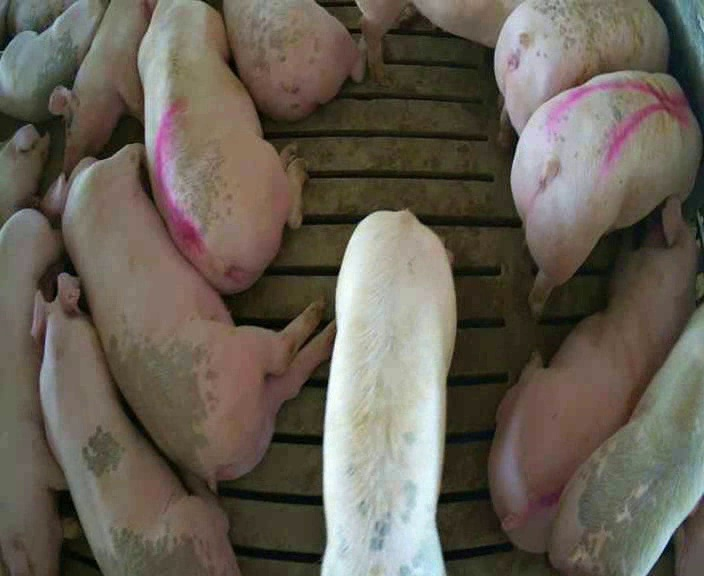pig: (40, 145, 333, 484), (31, 273, 237, 574), (321, 211, 455, 574), (138, 2, 303, 292), (511, 71, 701, 312), (549, 304, 703, 573), (0, 209, 80, 574), (495, 2, 668, 146), (49, 2, 153, 173), (223, 3, 365, 120), (0, 2, 105, 122), (0, 124, 49, 225), (0, 0, 71, 48)
